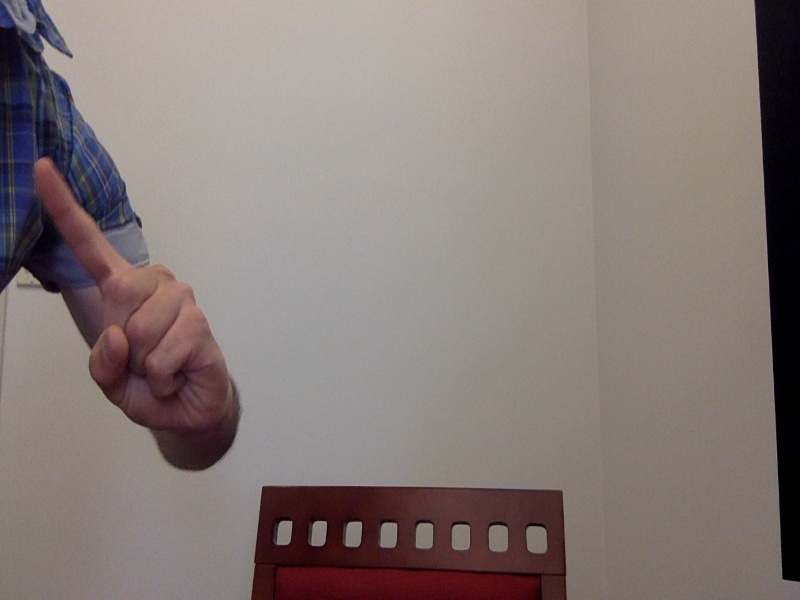1-hand: (30, 157, 233, 457)
